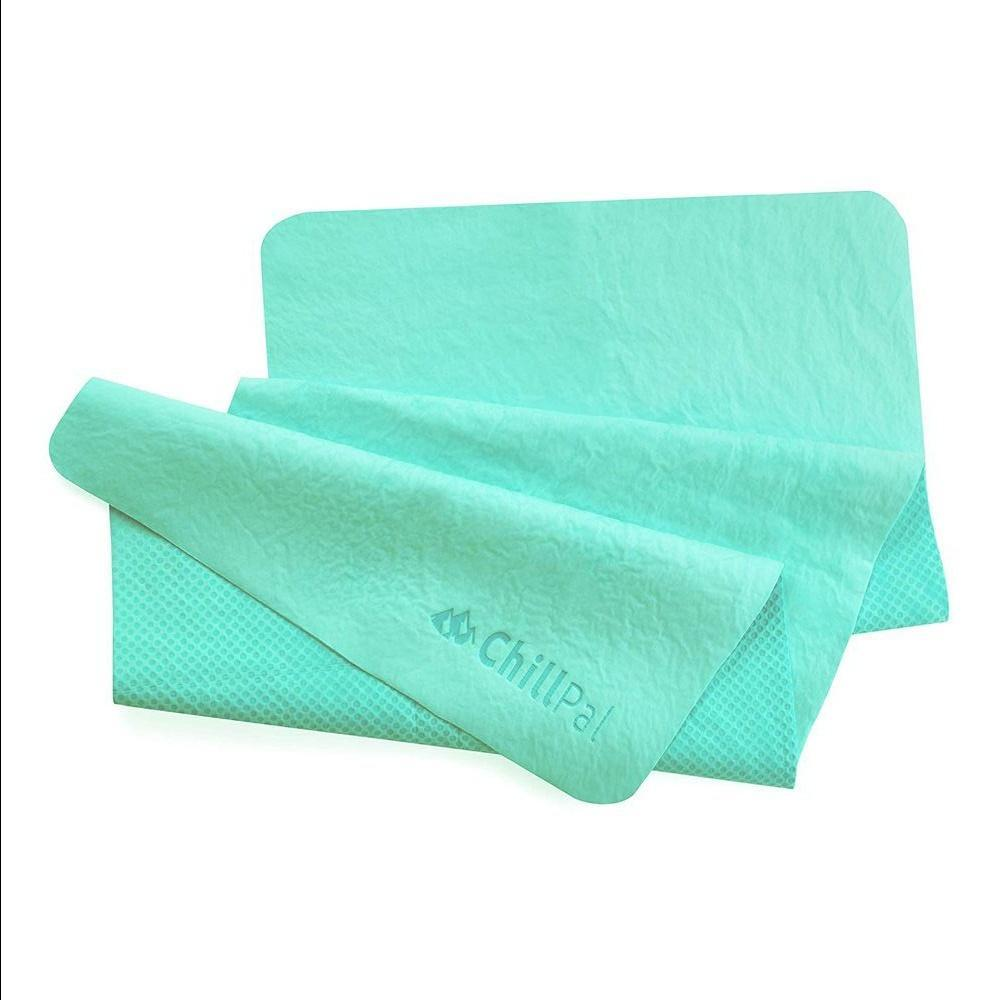towel: (30, 165, 1000, 830)
